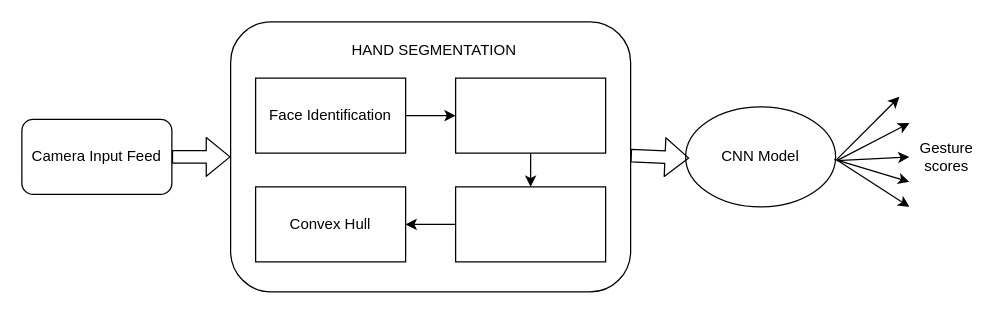
Some shapes in this 995 by 314 pixel diagram are drawn without their labels. Here are the shapes that lost their labels. From the top down, the centre of each, then its label:
(x=530, y=115): Skin color Extraction
(x=530, y=224): Morphological Operations
